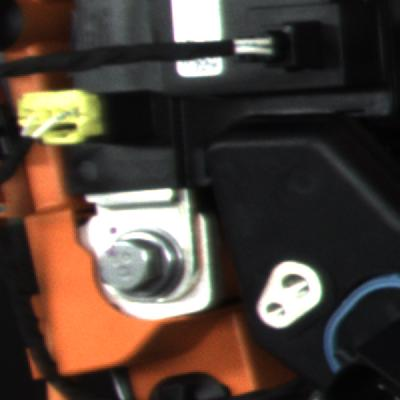nut_b: (97, 219, 192, 308)
